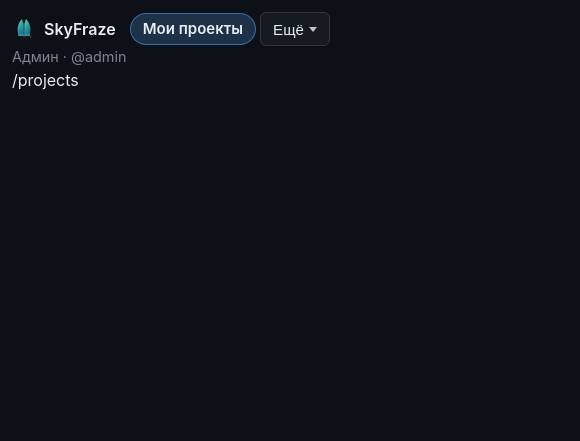
it: Header — навигация на узком экране › на 320 px в строке «Мои проекты», а тема и выход — в меню
The width and height of the screenshot is (580, 441).
Expected: the button "Выйти" is not shown
What coordinates should you click on to do the following:
click the button with aria-label "Ещё разделы"
I would click on:
 (295, 29)
Its box is 260,12 -> 330,46.
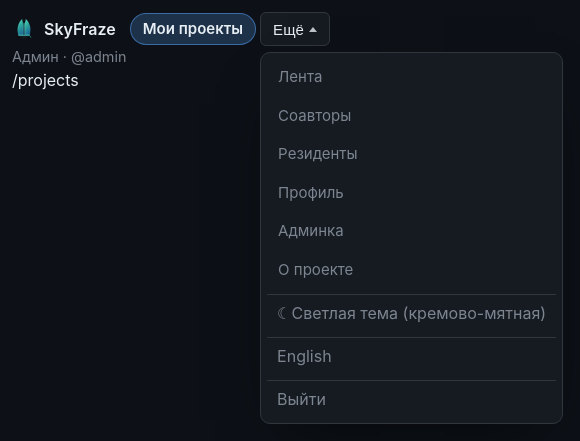
Expected: the menu item "Лента" is shown, 278,67 -> 322,86
Expected: the menu item "Резиденты" is shown, 278,144 -> 358,163
Expected: the menu item "Админка" is shown, 278,221 -> 344,240
